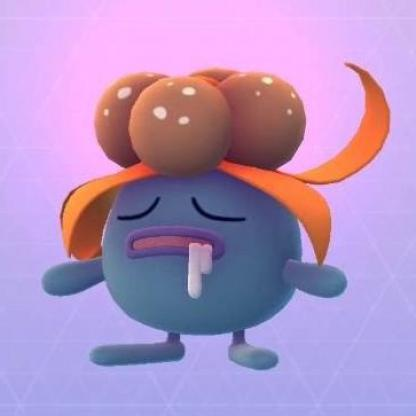Gloom: (37, 46, 395, 379)
